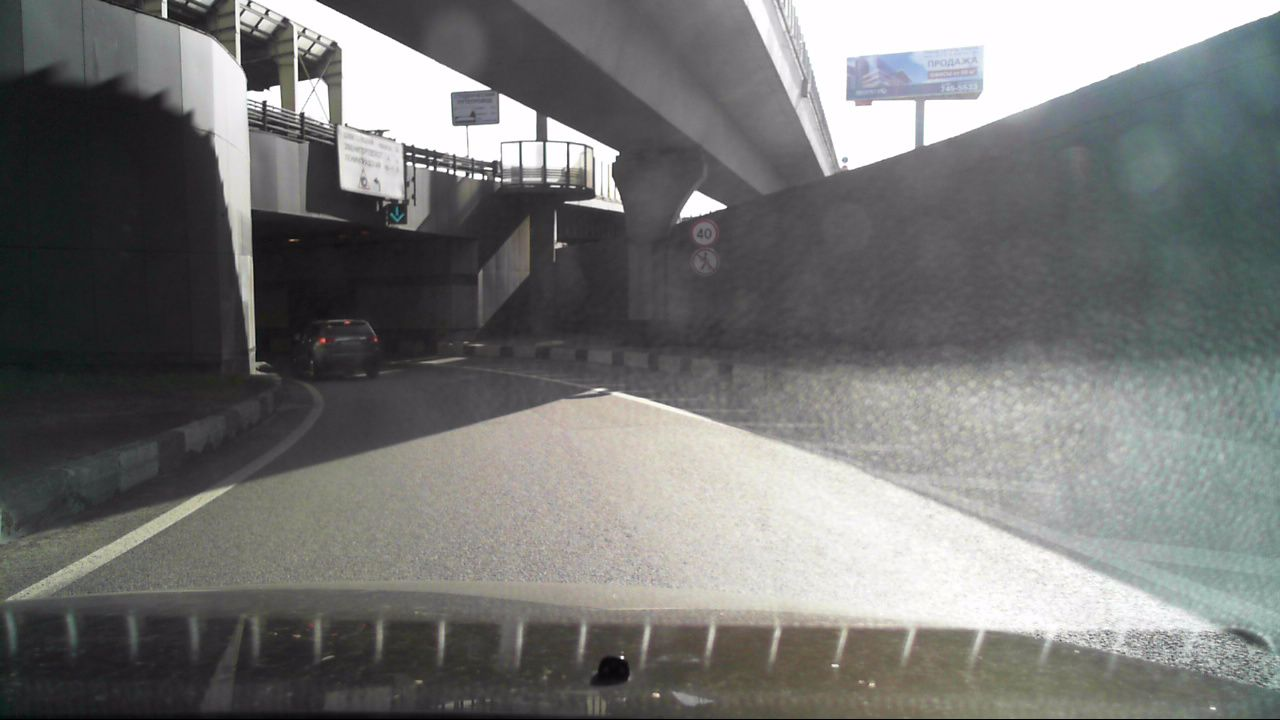speed_warning_40: (690, 218, 718, 248)
